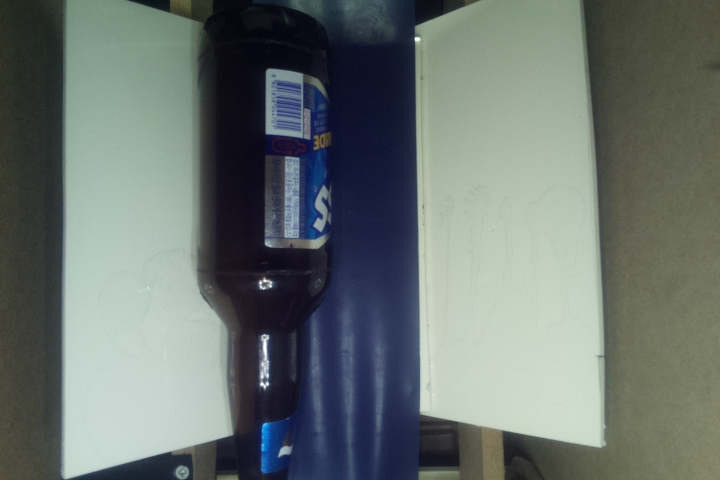makju: (191, 3, 336, 479)
